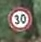limite 30: (6, 6, 33, 31)
